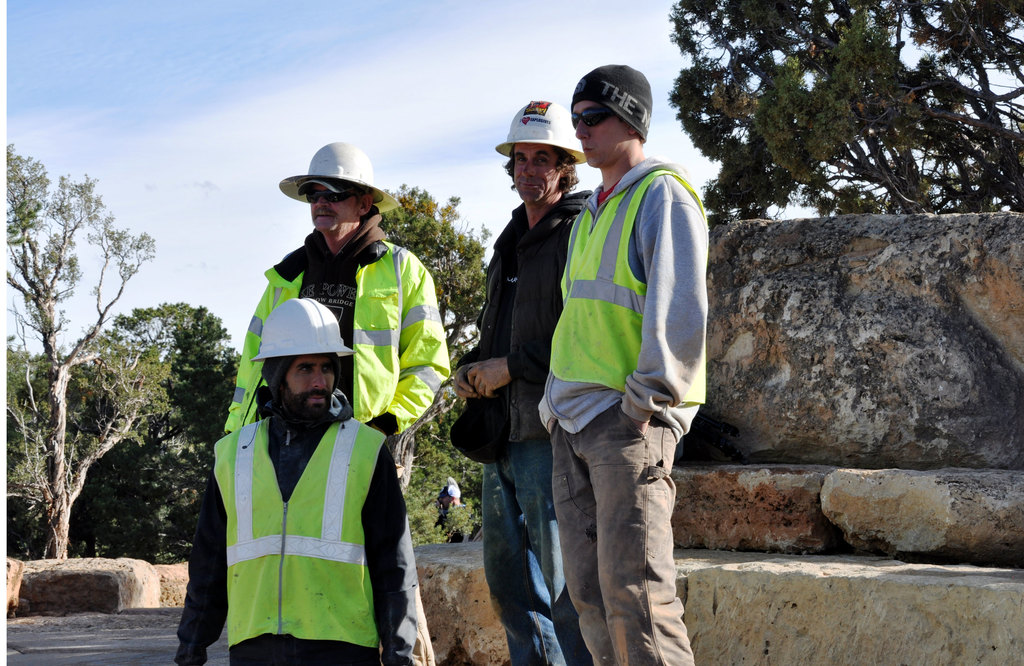Tree: (668, 0, 1023, 220), (74, 299, 246, 559), (373, 179, 491, 475)
